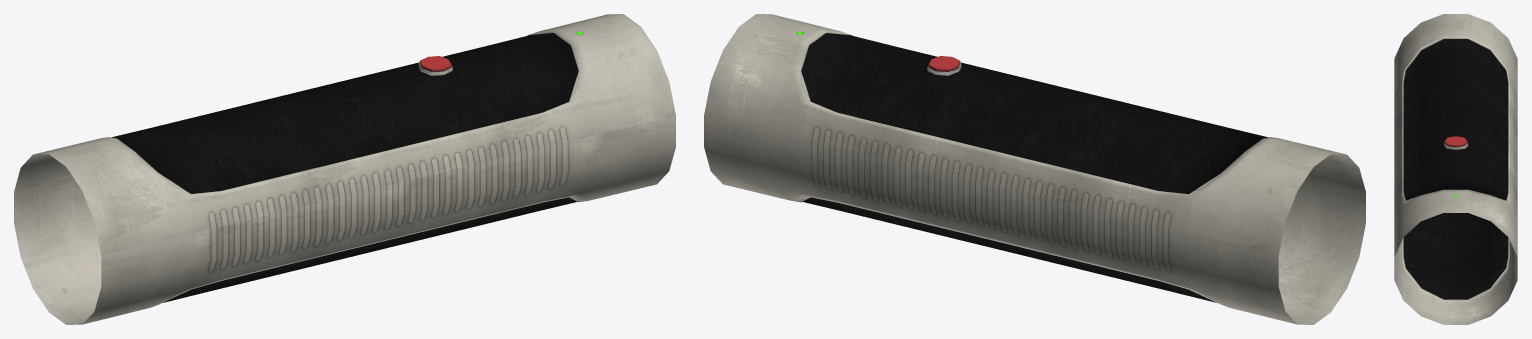
Rendered from grip_2_c_d.glb.
3 renders of one model, left to right at view 1: azimuth 30°, elevation 25°; view 2: azimuth 150°, elevation 25°; view 3: azimuth 270°, elevation 25°, orthographic. The views are drawn at different scales.
Parts seen in each view (by area): view 1: grip_2_c_d_lod0; view 2: grip_2_c_d_lod0; view 3: grip_2_c_d_lod0.
Boxes of the visible parts, <box> form: grip_2_c_d_lod0: <box>14,14,675,324</box>; grip_2_c_d_lod0: <box>704,14,1365,324</box>; grip_2_c_d_lod0: <box>1394,14,1517,324</box>.
Size of what is drawn, in the model's own units: 0.1054 by 0.0287 by 0.0277.
1 material, 1 textured.
